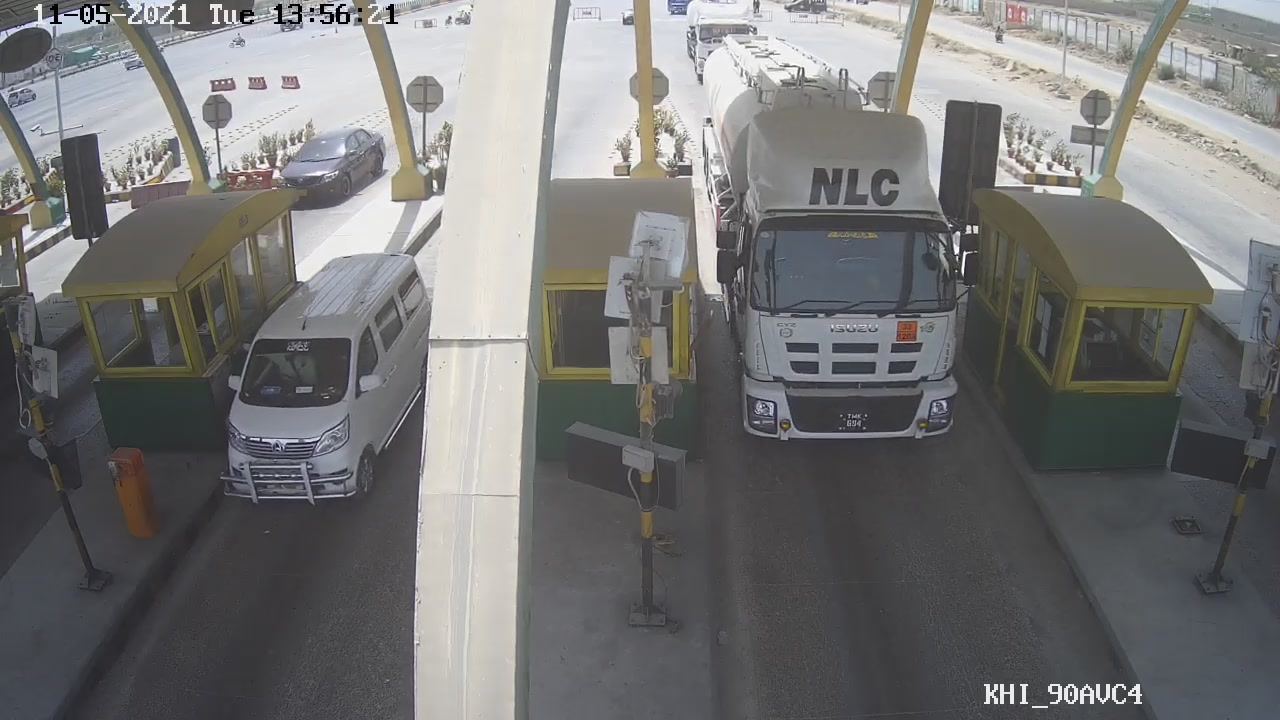F6: (694, 59, 979, 452)
